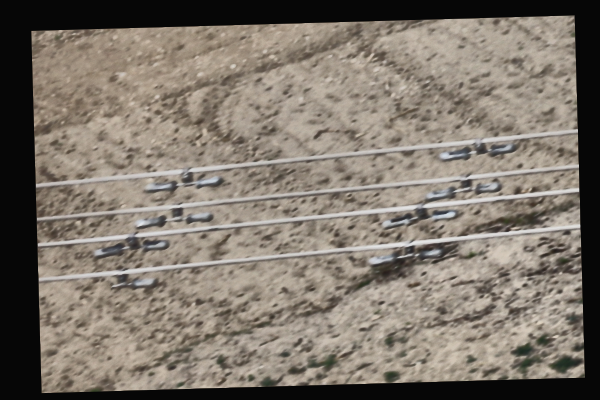damper: (131, 199, 216, 230), (140, 164, 224, 195), (364, 237, 445, 269), (422, 170, 504, 201), (435, 136, 517, 165), (378, 201, 459, 230), (92, 230, 170, 260)
damper_defect: (104, 265, 160, 291)
